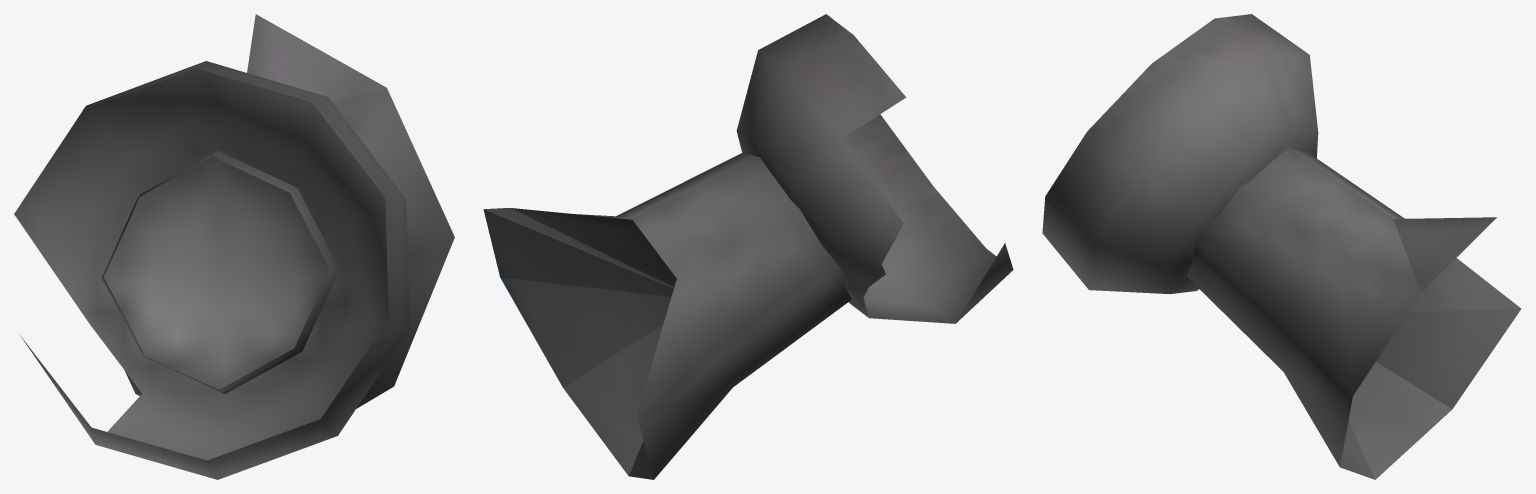
File: JiJiaPao_danqiping_01_sunhuai.FBX
The picture shows the model from 3 angles, left to right: view 1: azimuth 30°, elevation 25°; view 2: azimuth 150°, elevation 25°; view 3: azimuth 270°, elevation 25°; orthographic projection. The views are drawn at different scales.
Visible parts, largest first — view 1: JiJiaPao_danqiping_01_sunhuai; view 2: JiJiaPao_danqiping_01_sunhuai; view 3: JiJiaPao_danqiping_01_sunhuai.
Part boxes in pixels (<box>): JiJiaPao_danqiping_01_sunhuai: <box>14,14,454,479</box>; JiJiaPao_danqiping_01_sunhuai: <box>483,14,1013,479</box>; JiJiaPao_danqiping_01_sunhuai: <box>1042,14,1521,479</box>.
Bounding box in the file's own units: 0.3721 × 0.3432 × 0.3767.
1 material, 1 textured.
